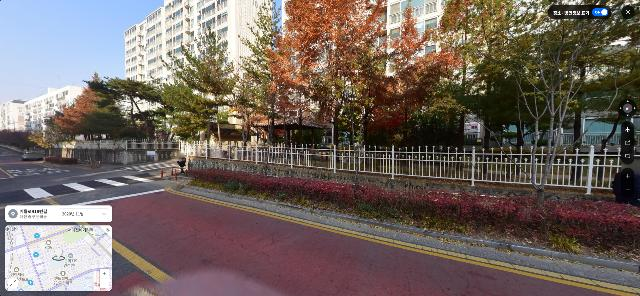other: (264, 1, 468, 184), (454, 0, 632, 207), (442, 0, 639, 185), (438, 3, 536, 176), (160, 26, 264, 154), (236, 0, 292, 171), (83, 76, 166, 140), (56, 72, 121, 140), (41, 118, 75, 159), (1, 129, 29, 150), (27, 129, 47, 149)
